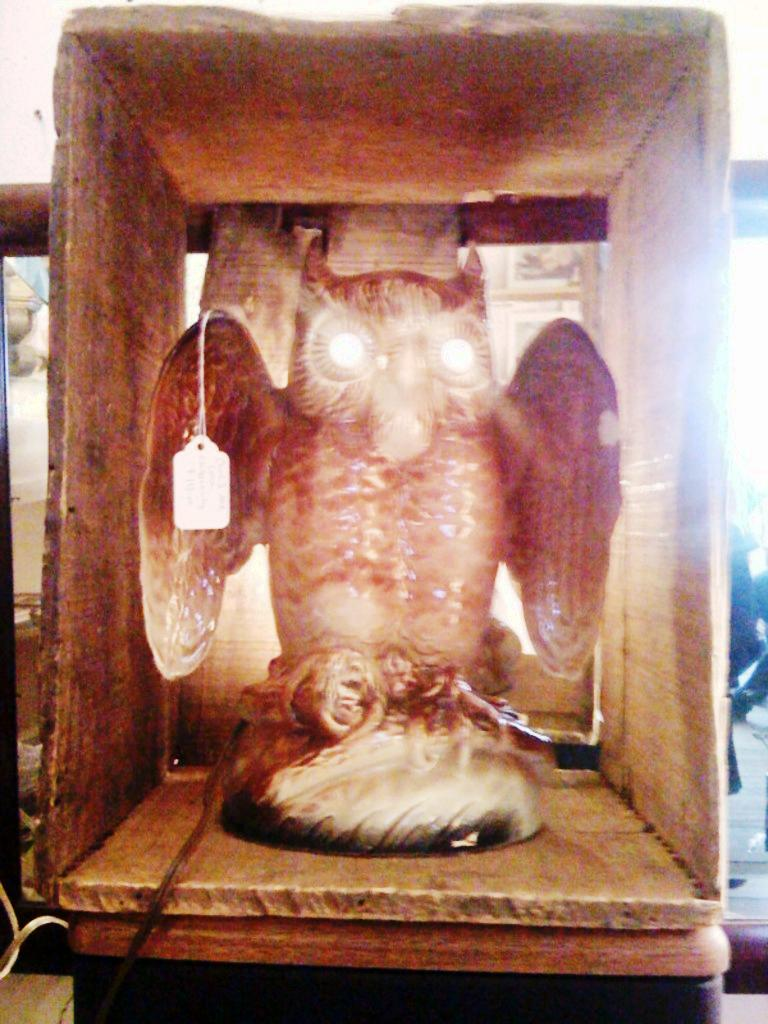Owl: (124, 226, 621, 776)
